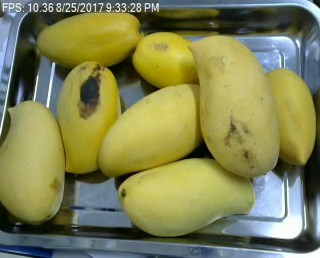Mango: (188, 35, 278, 177), (95, 84, 212, 177), (117, 159, 255, 237), (0, 101, 64, 221), (59, 61, 122, 174), (38, 11, 144, 68), (267, 70, 318, 166), (132, 31, 201, 85)
